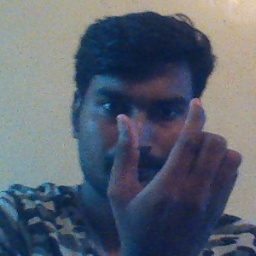U: (107, 94, 242, 251)
